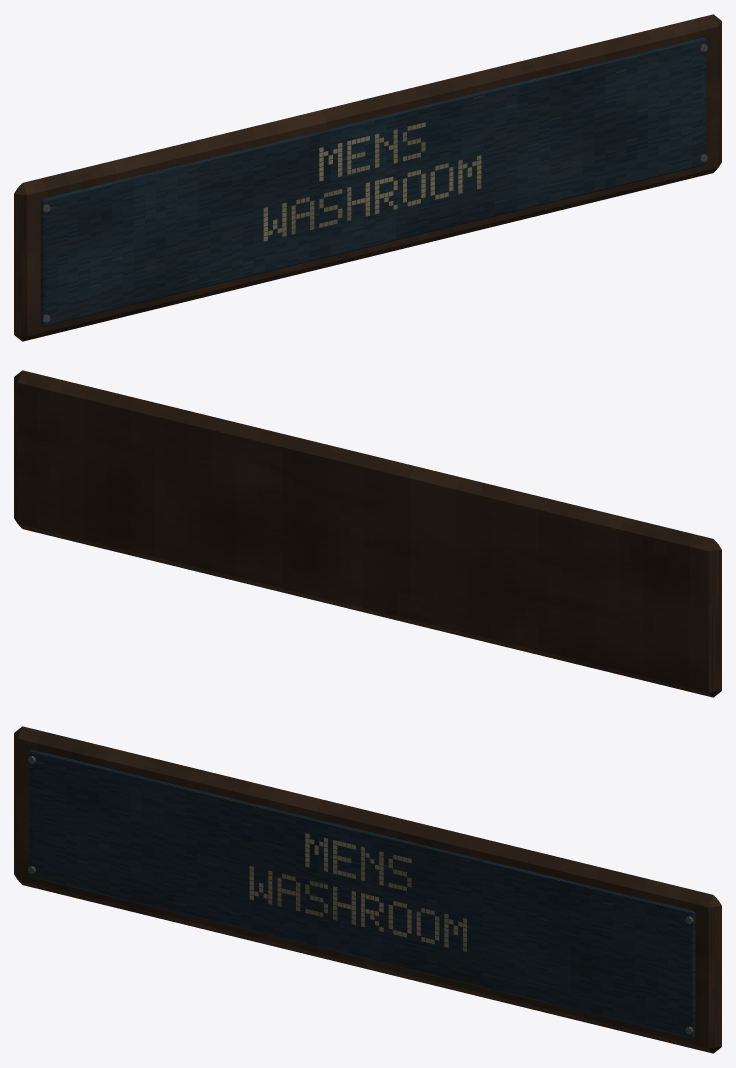
File: level_sign_mens_worn.glb
The picture shows the model from 3 angles, top to bottom: view 1: azimuth 30°, elevation 25°; view 2: azimuth 150°, elevation 25°; view 3: azimuth 330°, elevation 25°; orthographic projection.
Visible parts, largest first — view 1: level_sign_mens_worn; view 2: level_sign_mens_worn; view 3: level_sign_mens_worn.
Part boxes in pixels (x1,y1,x2,y2): level_sign_mens_worn: [14, 14, 721, 341]; level_sign_mens_worn: [14, 370, 721, 697]; level_sign_mens_worn: [14, 726, 721, 1053].
Bounding box in the file's own units: 1.68 × 0.36 × 0.053.
4 materials, 4 textured.
